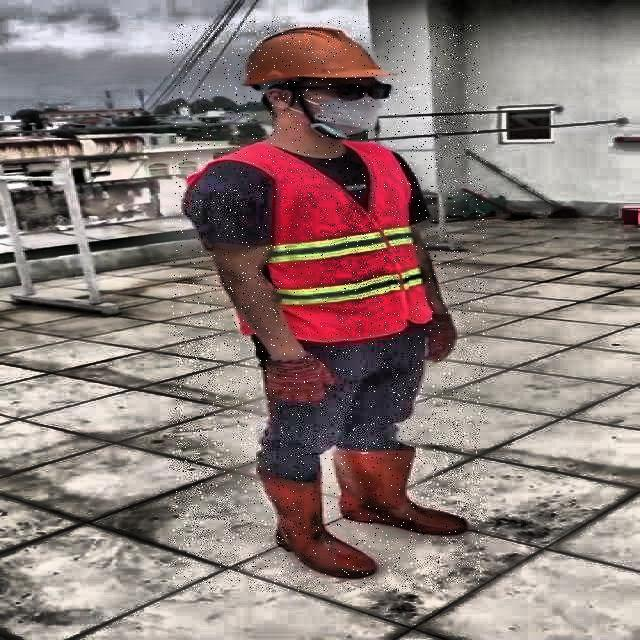safety_helmet: (235, 21, 394, 91)
safety_jacket: (182, 138, 430, 343)
